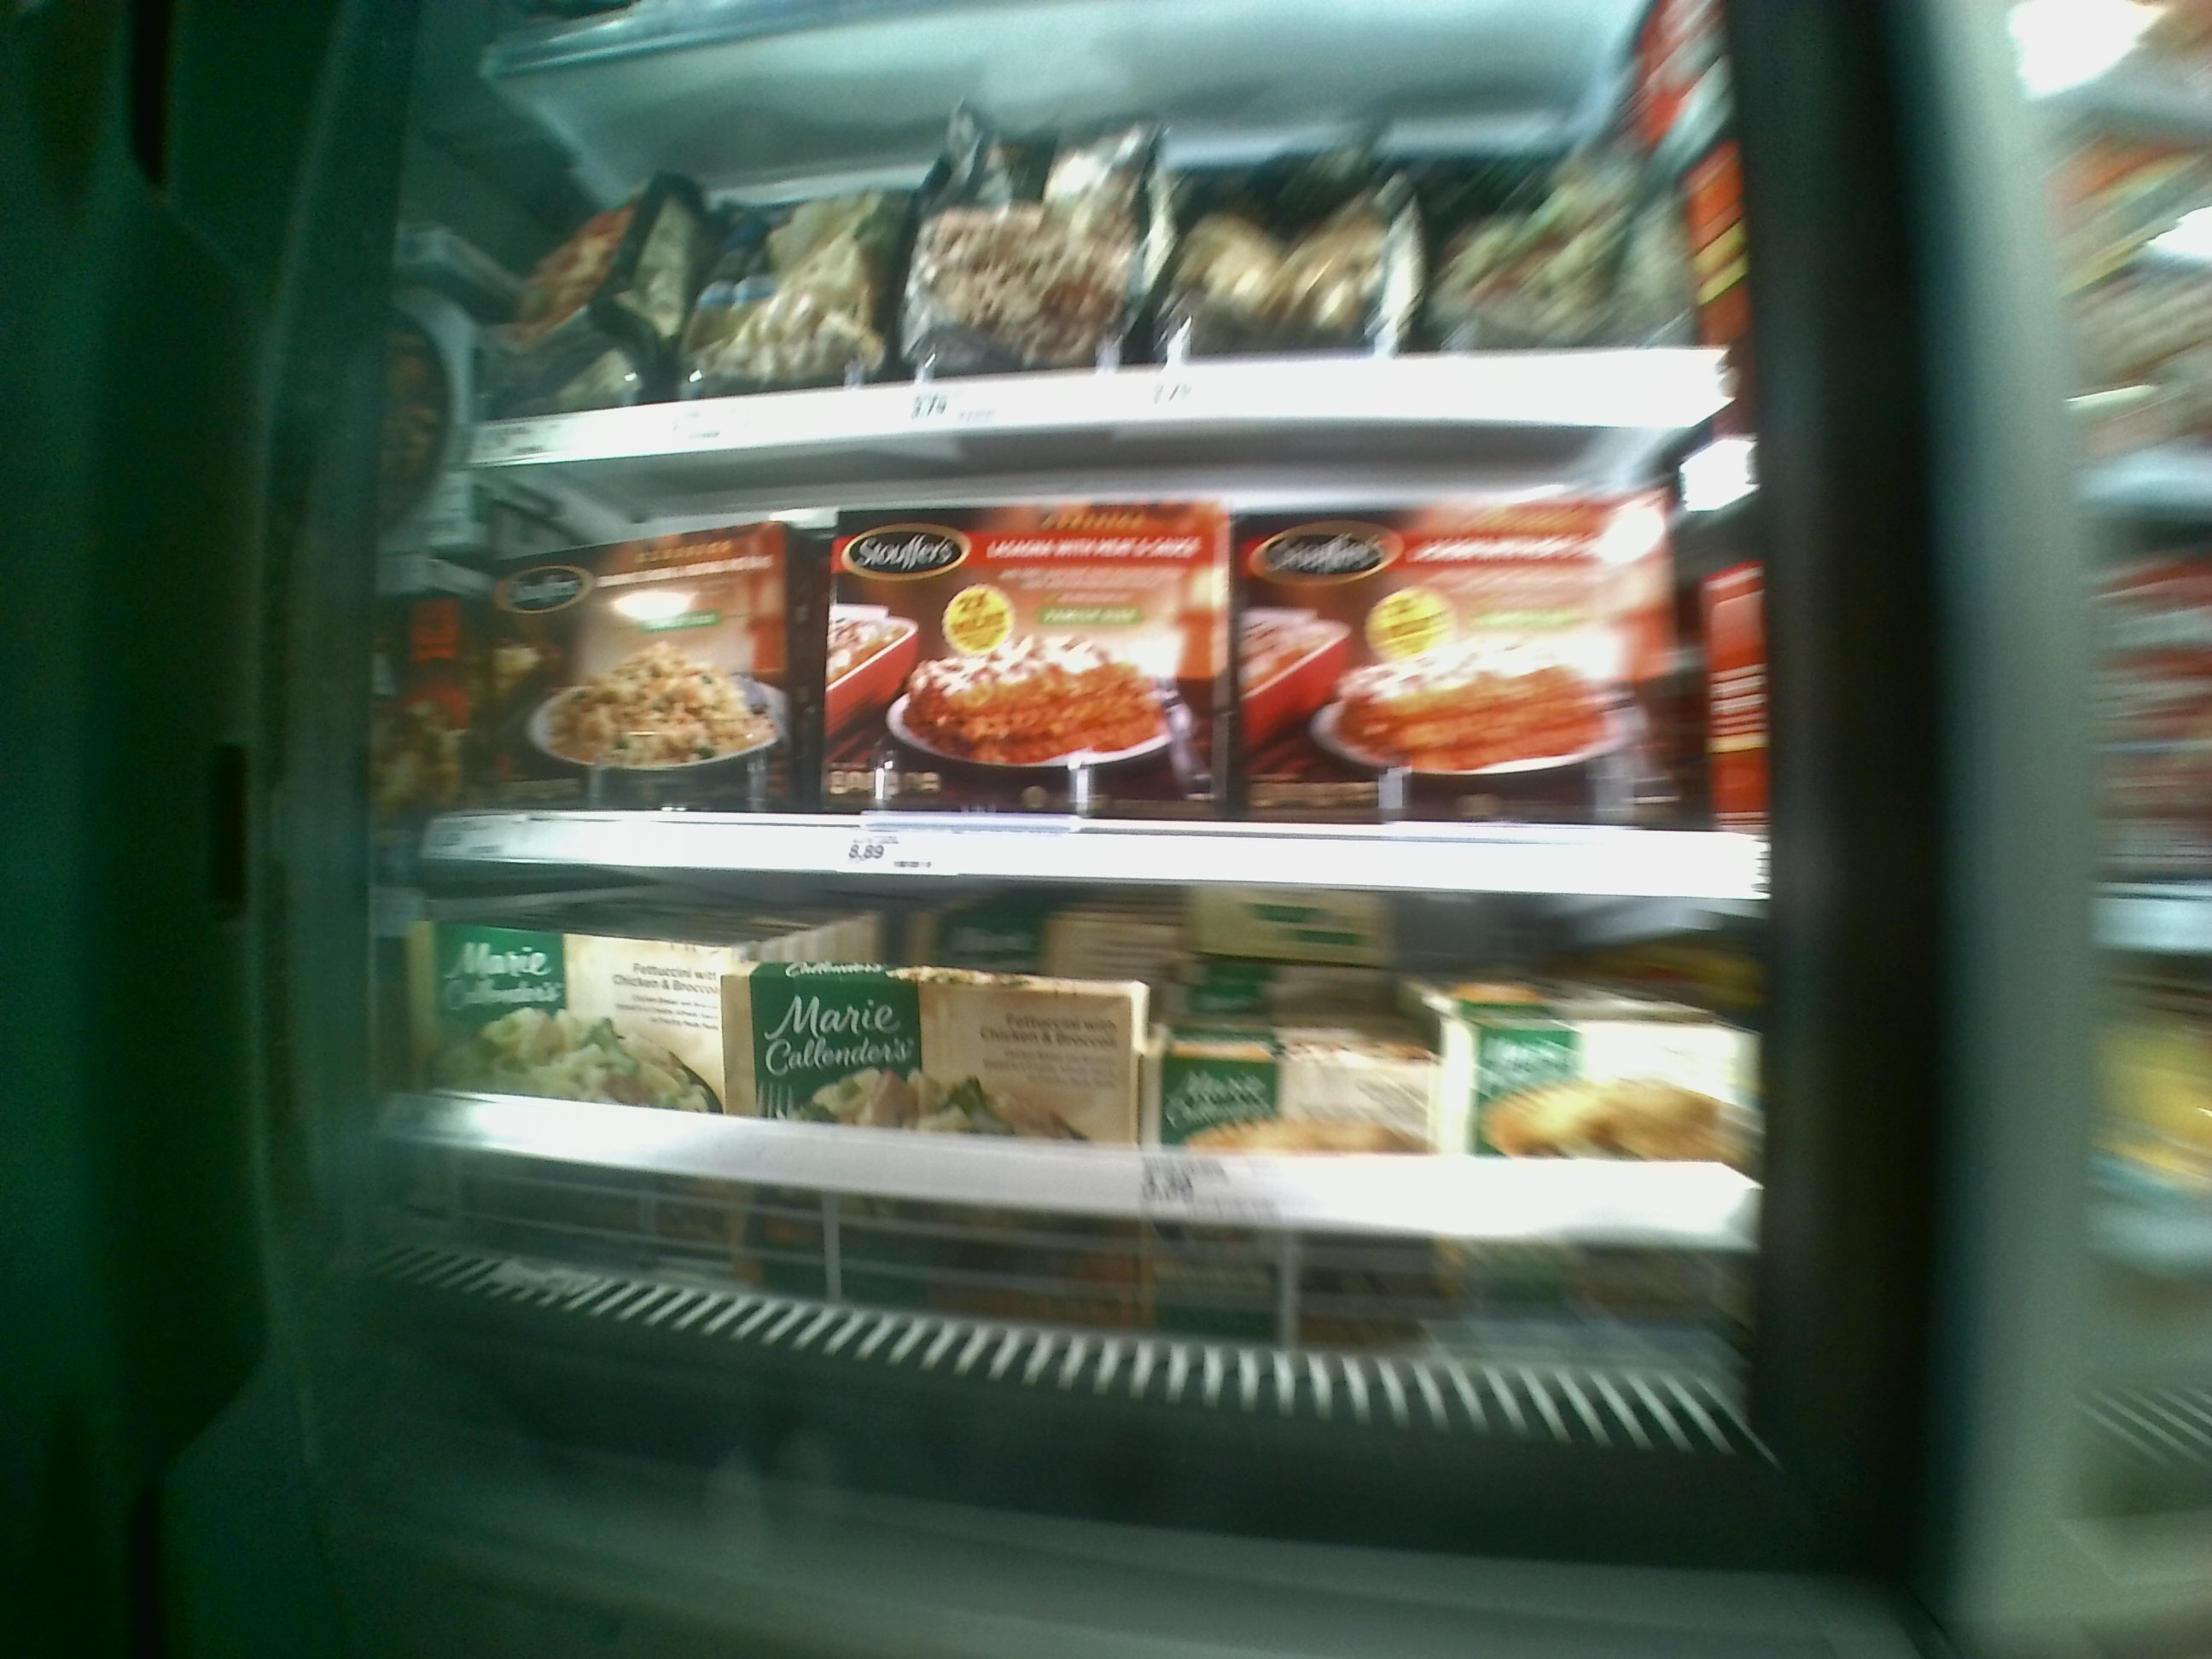shelf: (416, 859, 1764, 1385), (421, 403, 1764, 899)
